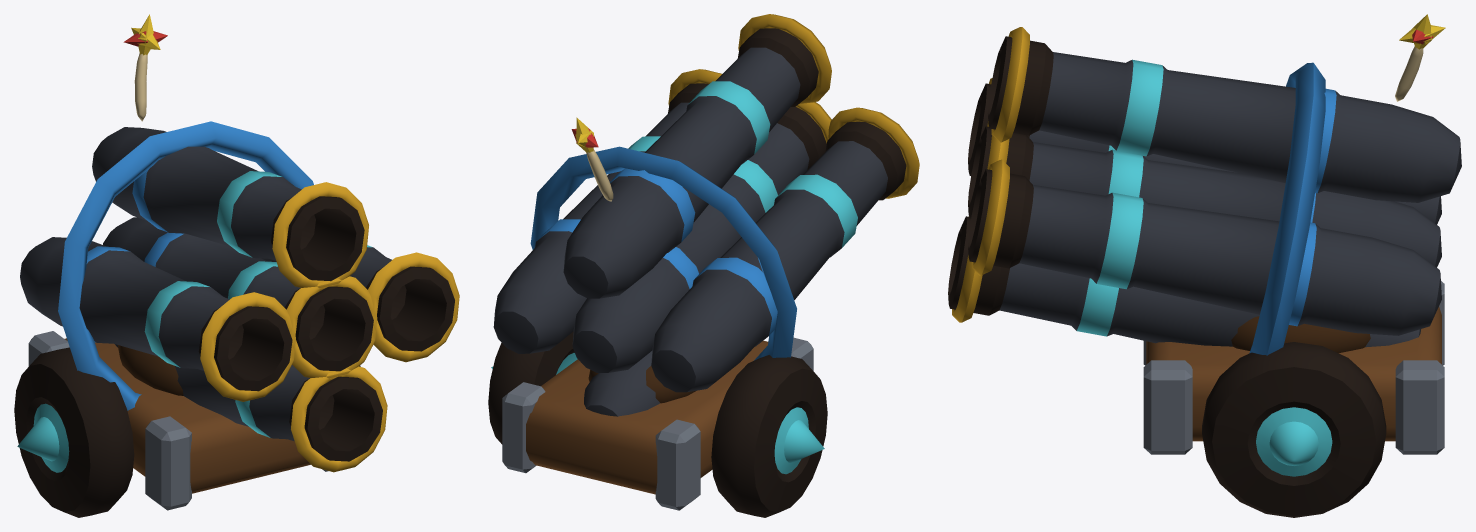
3 views of the same model, side by side, from view 1: azimuth 30°, elevation 25°; view 2: azimuth 150°, elevation 25°; view 3: azimuth 270°, elevation 25° (orthographic). The views are drawn at different scales.
Visible parts, largest first — view 1: bomba_1_torreta, bomba_0_base; view 2: bomba_1_torreta, bomba_0_base; view 3: bomba_1_torreta, bomba_0_base.
Boxes of the visible parts, box(x1,y1,x2,y2) form: bomba_1_torreta: box(20, 14, 459, 472); bomba_0_base: box(14, 331, 360, 517); bomba_1_torreta: box(493, 14, 919, 416); bomba_0_base: box(488, 331, 827, 517); bomba_1_torreta: box(948, 14, 1461, 355); bomba_0_base: box(1143, 281, 1444, 517).
Bounding box in the file's own units: 0.784 × 0.907 × 0.9381.
